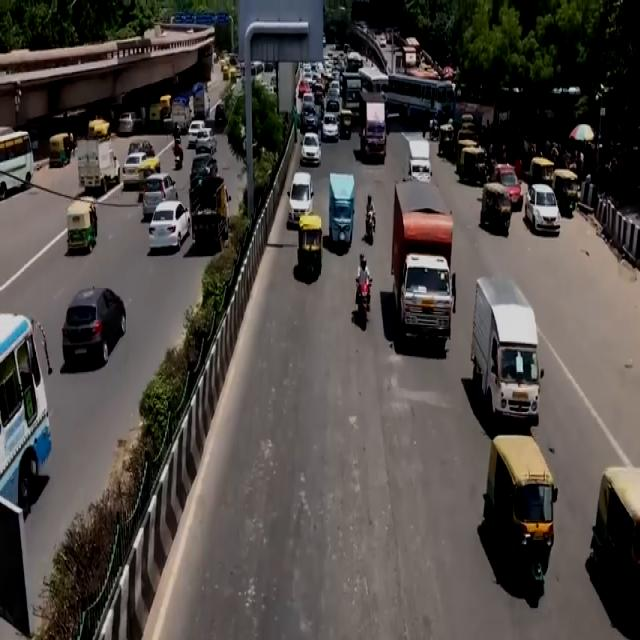BUS: (387, 70, 455, 122)
MOTORCYCLE: (357, 280, 371, 332)
TRUCK: (392, 181, 456, 358), (472, 279, 542, 435)
